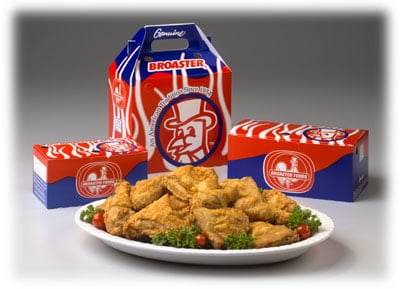curry: (223, 231, 255, 250)
